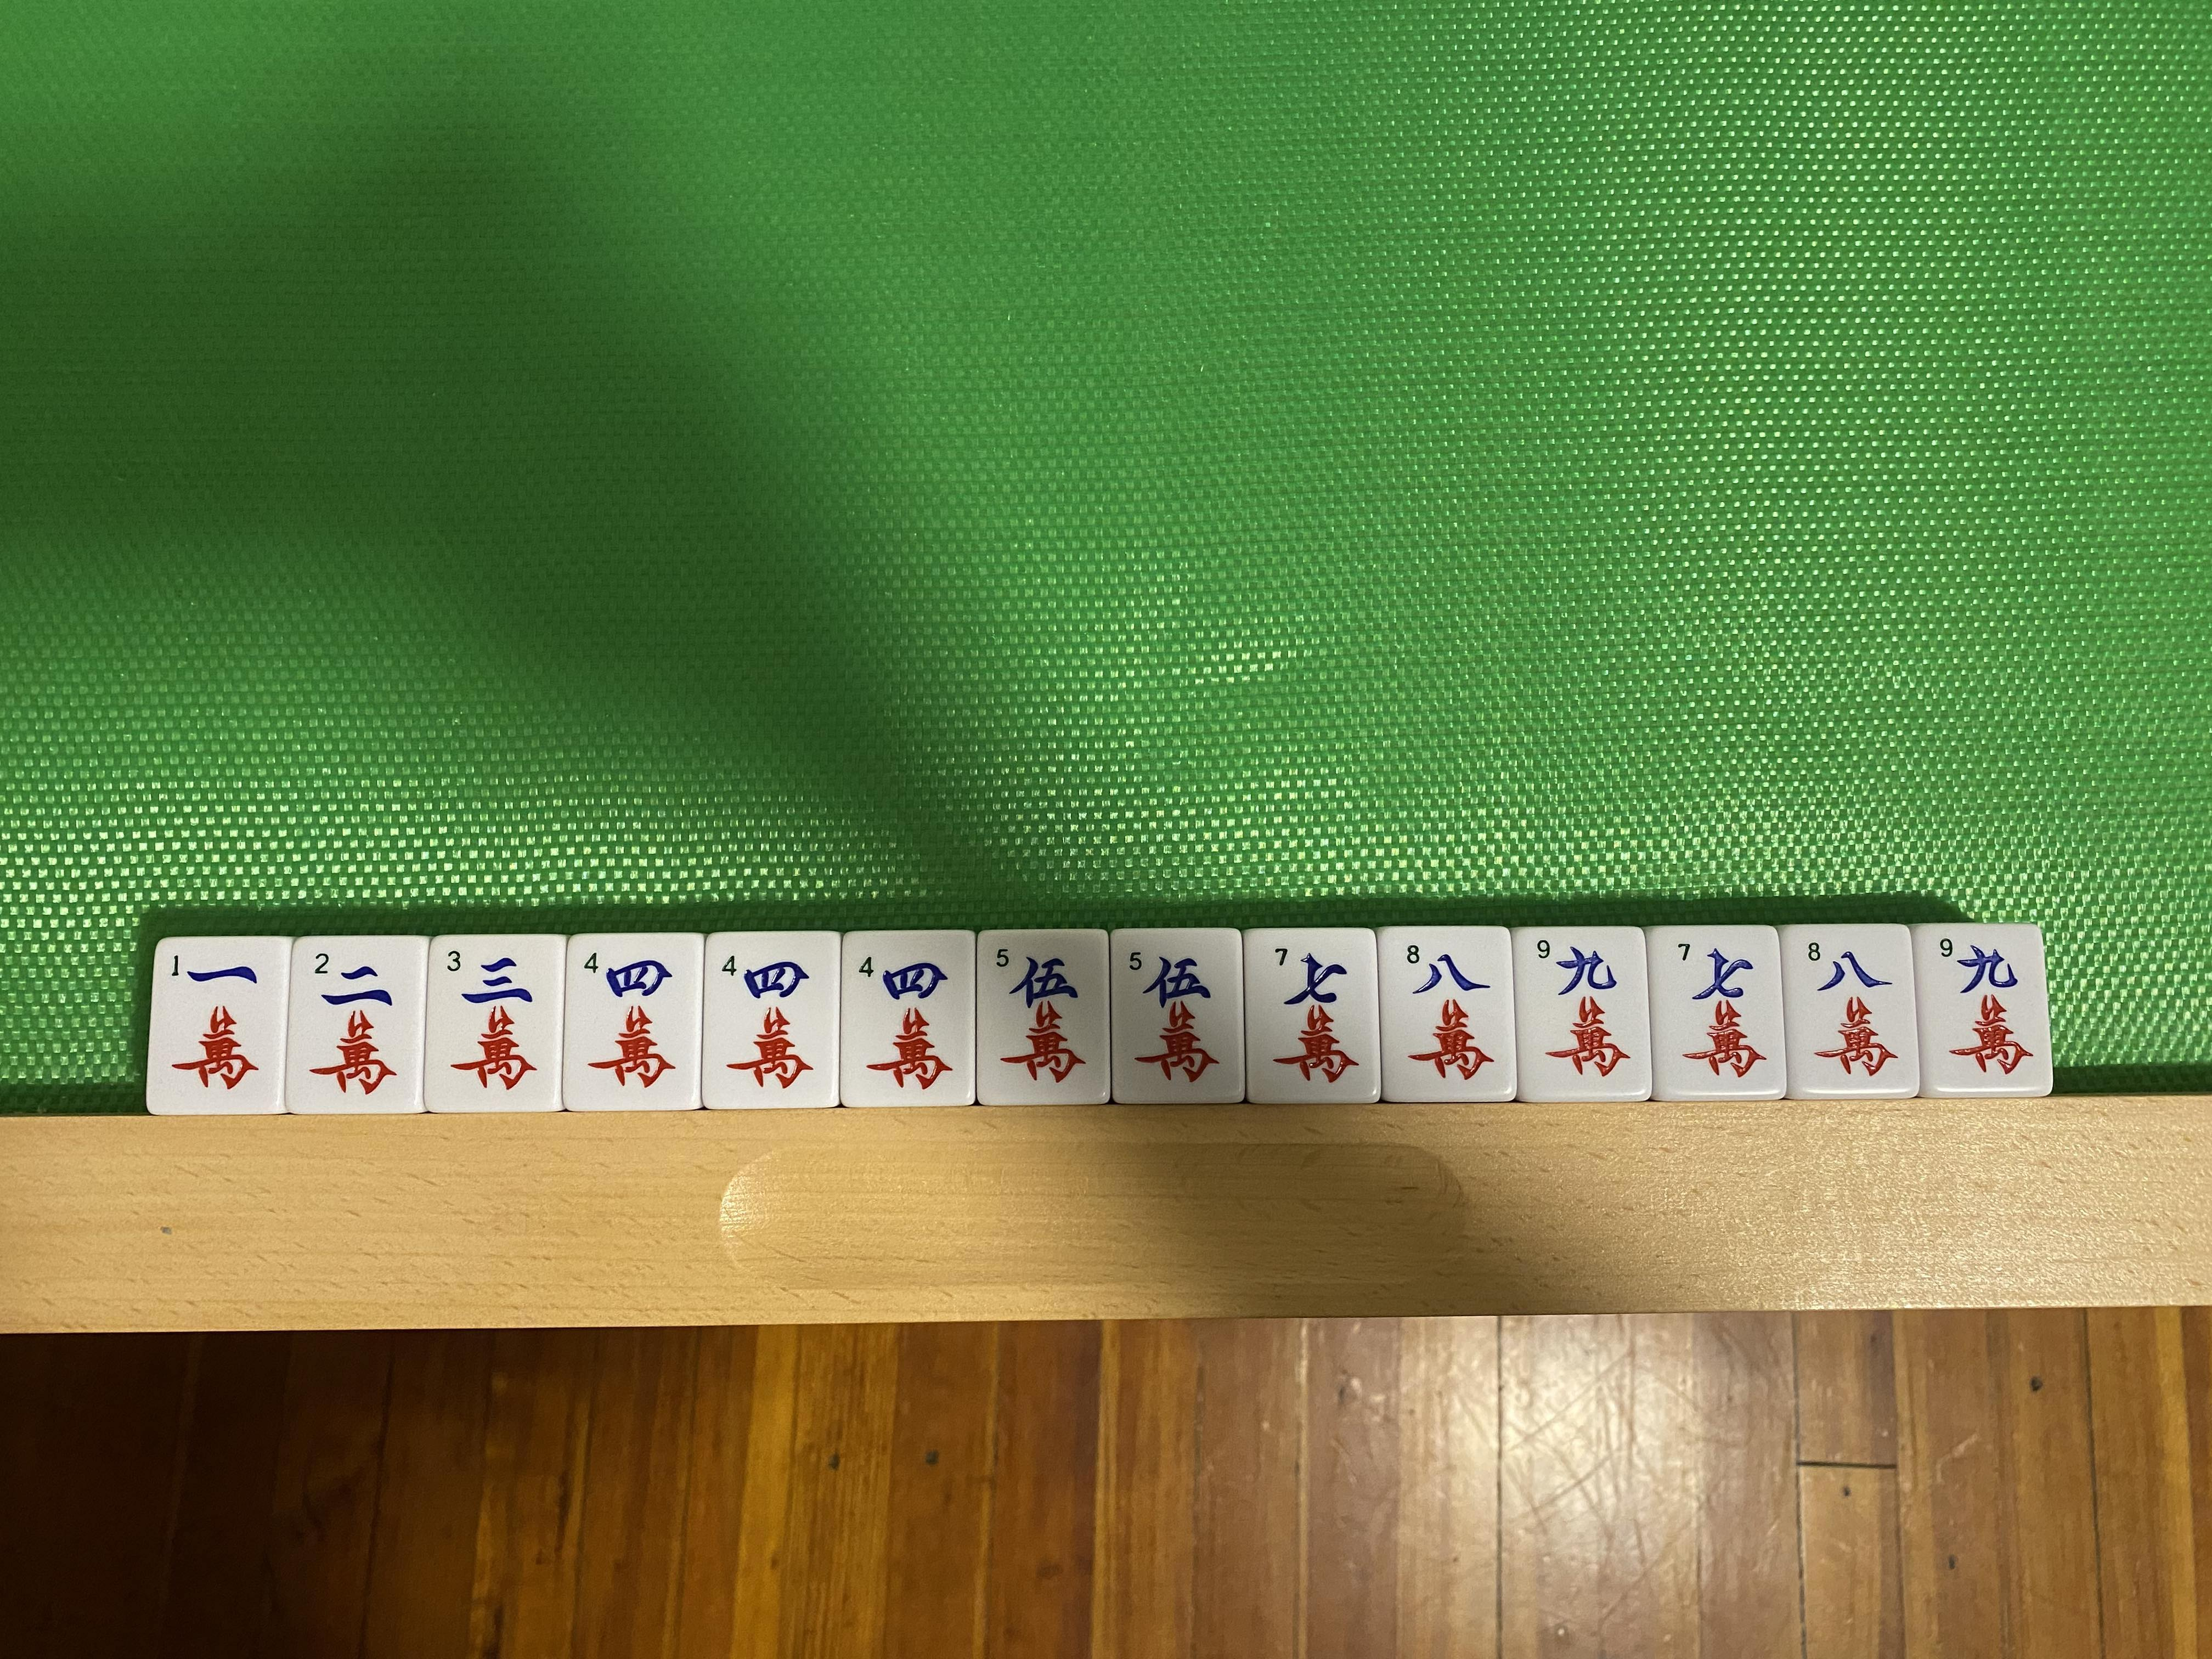character-eight: (1383, 931, 1508, 1100), (1791, 927, 1911, 1096)
character-five: (1111, 931, 1240, 1100), (979, 932, 1106, 1103)
character-four: (564, 936, 702, 1107), (705, 932, 836, 1110), (841, 931, 974, 1103)
character-nine: (1519, 931, 1646, 1101), (1925, 924, 2043, 1098)
character-one: (155, 941, 282, 1108)
character-seven: (1244, 931, 1378, 1103), (1658, 925, 1778, 1098)
character-three: (432, 938, 563, 1110)
character-two: (284, 939, 427, 1112)
